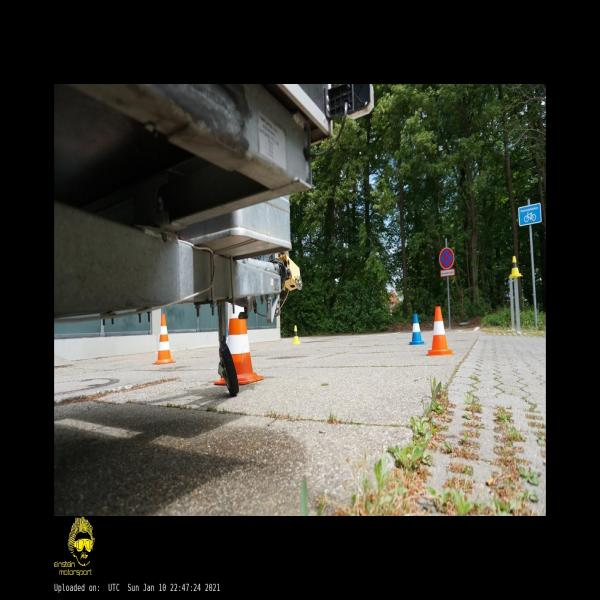blue_cone: (409, 313, 425, 345)
large_orange_cone: (214, 304, 264, 386), (152, 313, 176, 364)
orange_cone: (427, 306, 452, 355)
yellow_cone: (510, 255, 522, 277), (290, 326, 302, 344)
